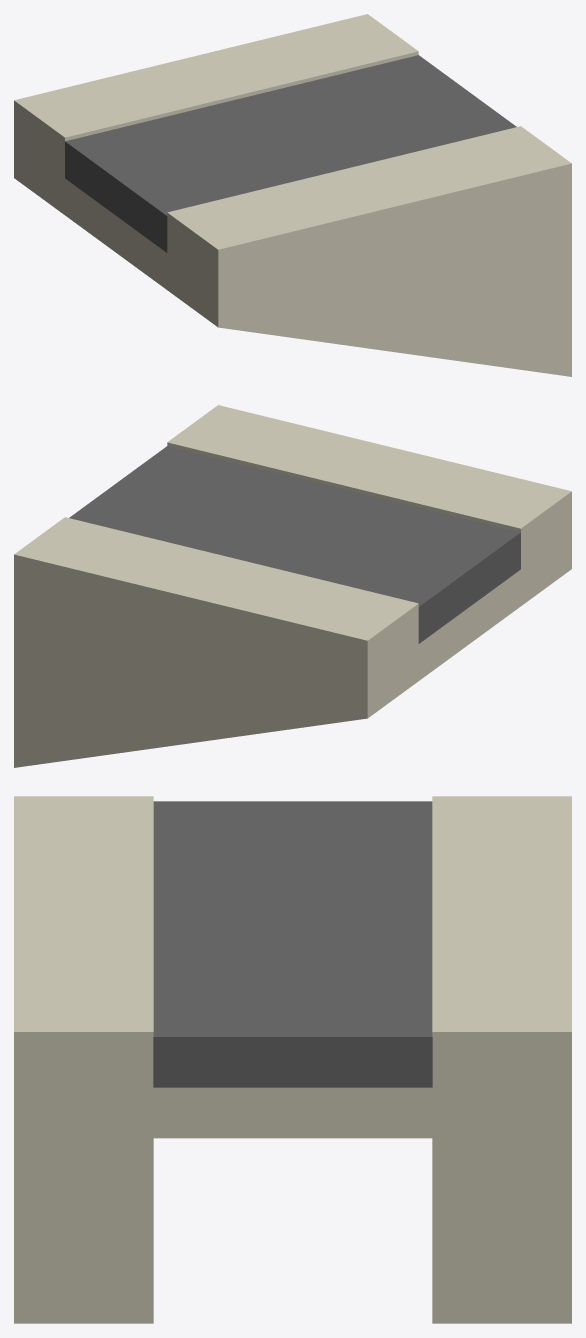
Rendered from tile040.dae.
3 renders of one model, top to bottom at view 1: azimuth 30°, elevation 25°; view 2: azimuth 150°, elevation 25°; view 3: azimuth 270°, elevation 25°, orthographic. The views are drawn at different scales.
Parts seen in each view (by area): view 1: tile040; view 2: tile040; view 3: tile040.
Boxes of the visible parts, box(x1,y1,x2,y2) form: tile040: box(14, 14, 571, 376); tile040: box(14, 405, 571, 767); tile040: box(14, 796, 571, 1323).
Bounding box in the file's own units: 1 × 0.5767 × 1.
